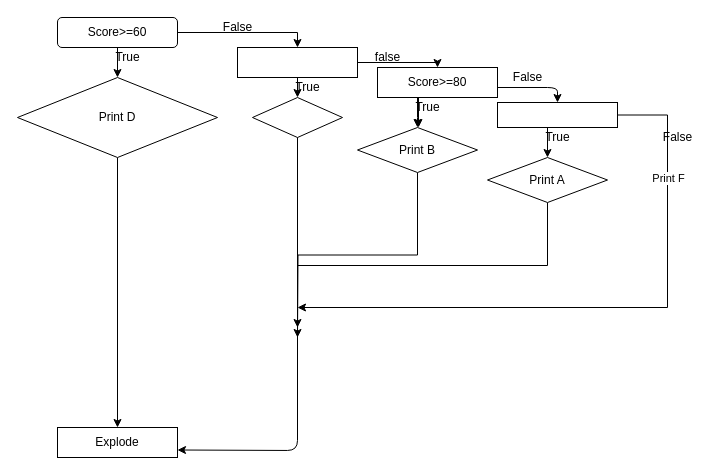
Some shapes in this 715 by 476 pixel diagram are drawn without their labels. The centre of each missing label's shape, as x and y in pixels:
print C: (297,117)
Score>=70: (297,62)
Score>=90: (557,115)
